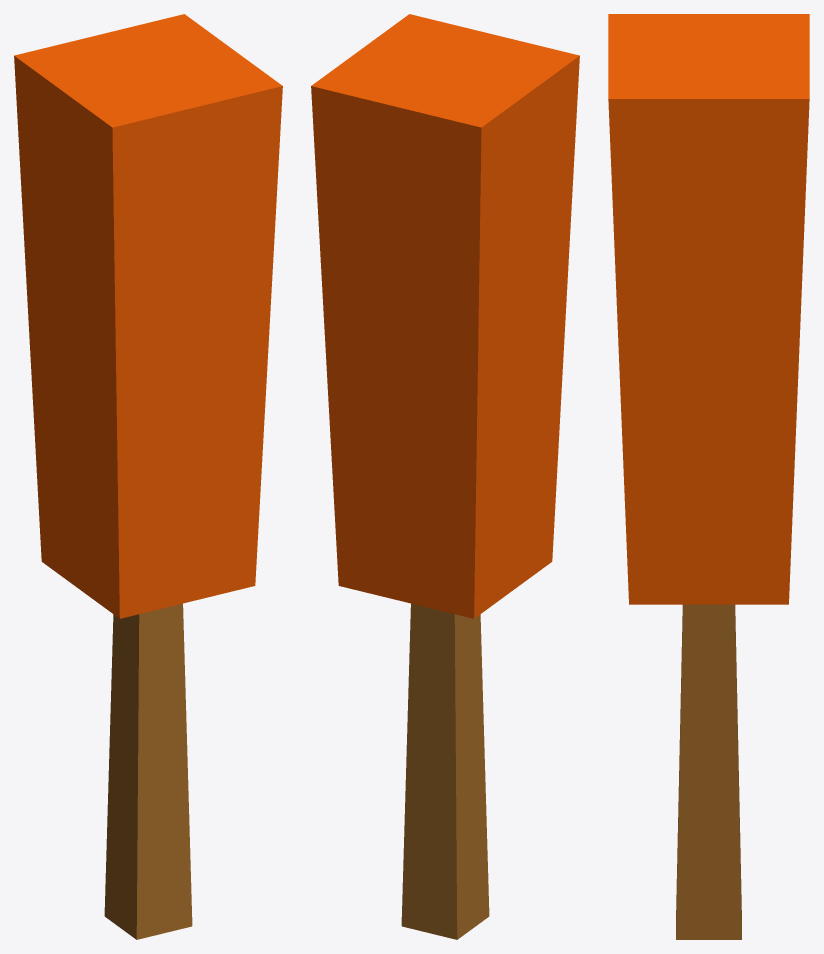
The model's file is tree_04.fbx.
3 views of the same model, side by side, from view 1: azimuth 30°, elevation 25°; view 2: azimuth 150°, elevation 25°; view 3: azimuth 270°, elevation 25° (orthographic). The views are drawn at different scales.
Visible parts, largest first — view 1: tree_04; view 2: tree_04; view 3: tree_04.
Part boxes in pixels (<box>): tree_04: <box>14,14,282,939</box>; tree_04: <box>311,14,579,939</box>; tree_04: <box>608,14,809,939</box>.
Size of the model in its own units: 1.03 by 4.89 by 1.03.
